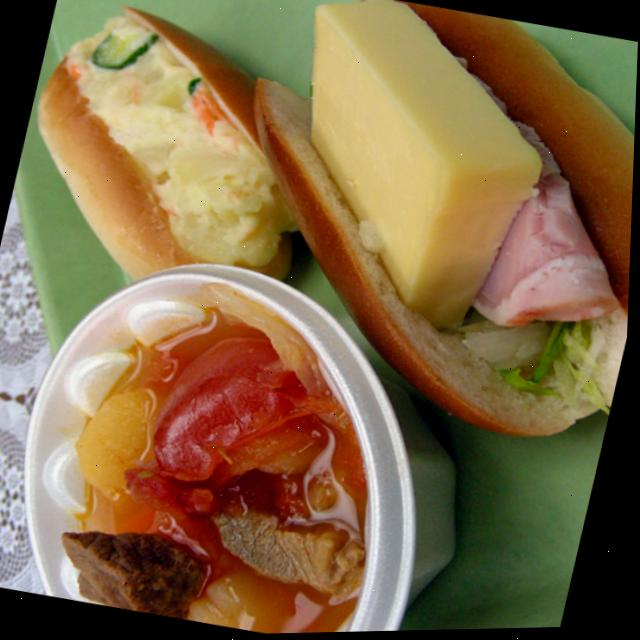三明治: (192, 0, 640, 461)
